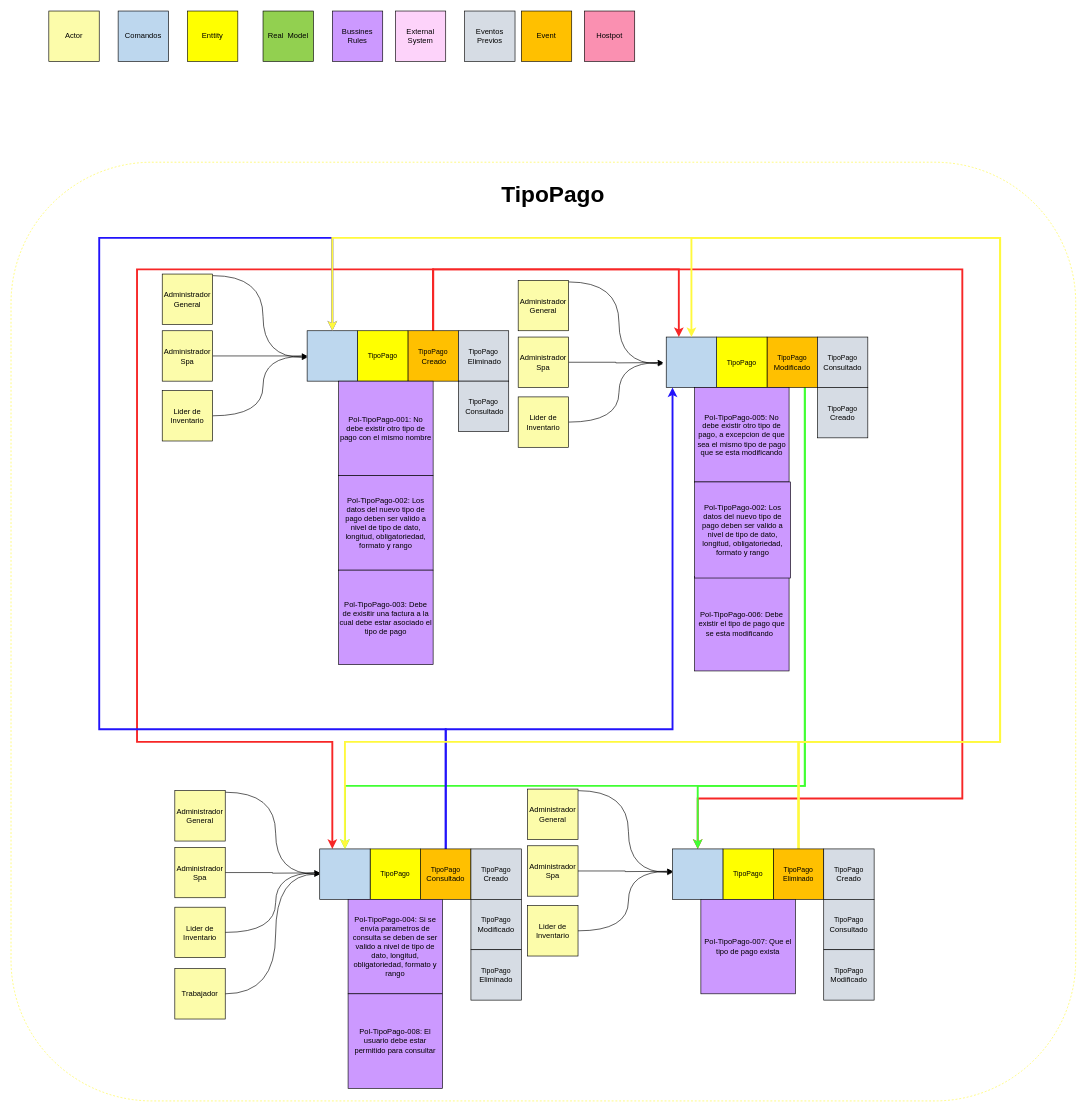
Some shapes in this 1087 by 1112 pixel diagram are drawn without their labels. The box of each missing label's shape, as (x1, y1, x2, y2) in pixels:
Consultar TipoPago: (319, 848, 370, 899)
Crear TipoPago: (306, 330, 358, 381)
Eliminar Consentimiento: (672, 848, 723, 899)
Modificar TipoPago: (666, 336, 717, 387)
